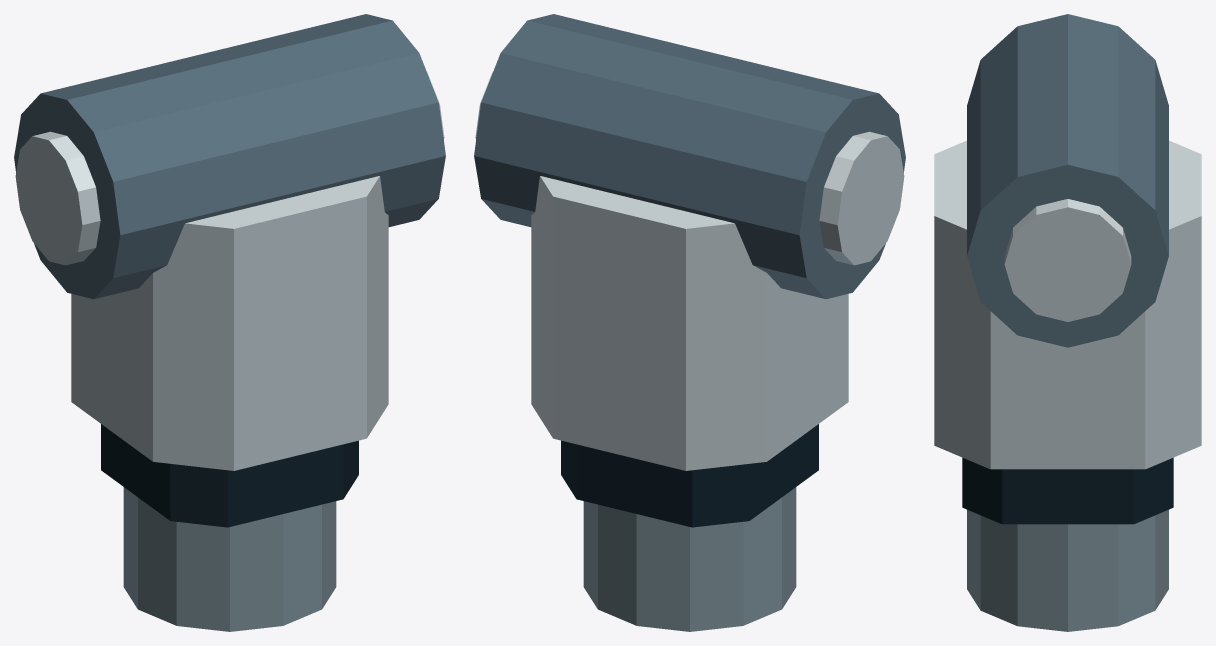
File: voxel_printer_head.obj
3 views of the same model, side by side, from view 1: azimuth 30°, elevation 25°; view 2: azimuth 150°, elevation 25°; view 3: azimuth 270°, elevation 25° (orthographic). The views are drawn at different scales.
Parts seen in each view (by area): view 1: l_optical_head_body_3, l_transverse_pivot_0, l_hollow_emitter_bezel_5, l_optical_head_inset_collar_4, l_pivot_end_cap_1; view 2: l_optical_head_body_3, l_transverse_pivot_0, l_hollow_emitter_bezel_5, l_optical_head_inset_collar_4, l_pivot_end_cap_1; view 3: l_optical_head_body_3, l_transverse_pivot_0, l_hollow_emitter_bezel_5, l_pivot_end_cap_2, l_optical_head_inset_collar_4.
Boxes of the visible parts, <box> form: l_optical_head_body_3: <box>71,176,388,470</box>; l_transverse_pivot_0: <box>14,14,445,299</box>; l_hollow_emitter_bezel_5: <box>123,487,336,631</box>; l_optical_head_inset_collar_4: <box>101,424,358,527</box>; l_pivot_end_cap_1: <box>15,131,100,265</box>; l_optical_head_body_3: <box>531,176,848,470</box>; l_transverse_pivot_0: <box>474,14,905,299</box>; l_hollow_emitter_bezel_5: <box>583,487,796,631</box>; l_optical_head_inset_collar_4: <box>561,424,818,527</box>; l_pivot_end_cap_1: <box>819,131,904,265</box>; l_optical_head_body_3: <box>934,140,1201,469</box>; l_transverse_pivot_0: <box>967,14,1168,347</box>; l_hollow_emitter_bezel_5: <box>967,509,1168,631</box>; l_pivot_end_cap_2: <box>1004,199,1131,321</box>; l_optical_head_inset_collar_4: <box>962,457,1173,524</box>.
Size of the model in its own units: 0.1056 by 0.1469 by 0.0712.
